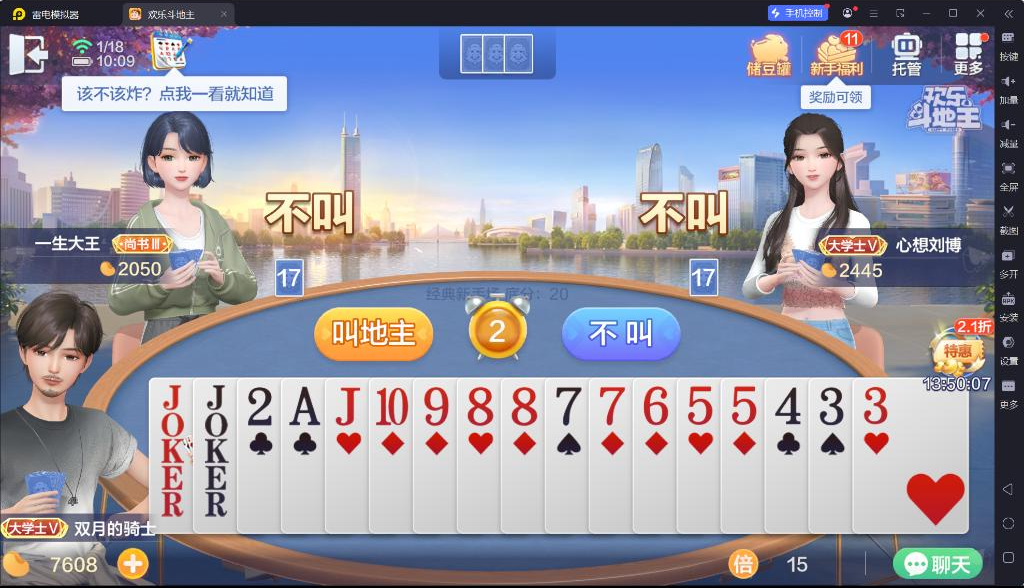A: (288, 385, 323, 429)
J: (332, 384, 362, 428)
JOKER: (158, 381, 187, 468)
eight: (463, 386, 495, 429), (509, 386, 540, 429)
five: (682, 383, 716, 427), (727, 383, 759, 428)
four: (772, 381, 803, 427)
joker: (203, 381, 231, 466)
nine: (421, 385, 450, 427)
seven: (595, 384, 628, 427), (552, 385, 585, 427)
six: (638, 384, 671, 428)
ten: (373, 385, 409, 427)
three: (860, 382, 890, 426), (816, 383, 845, 427)
two: (244, 384, 275, 428)
